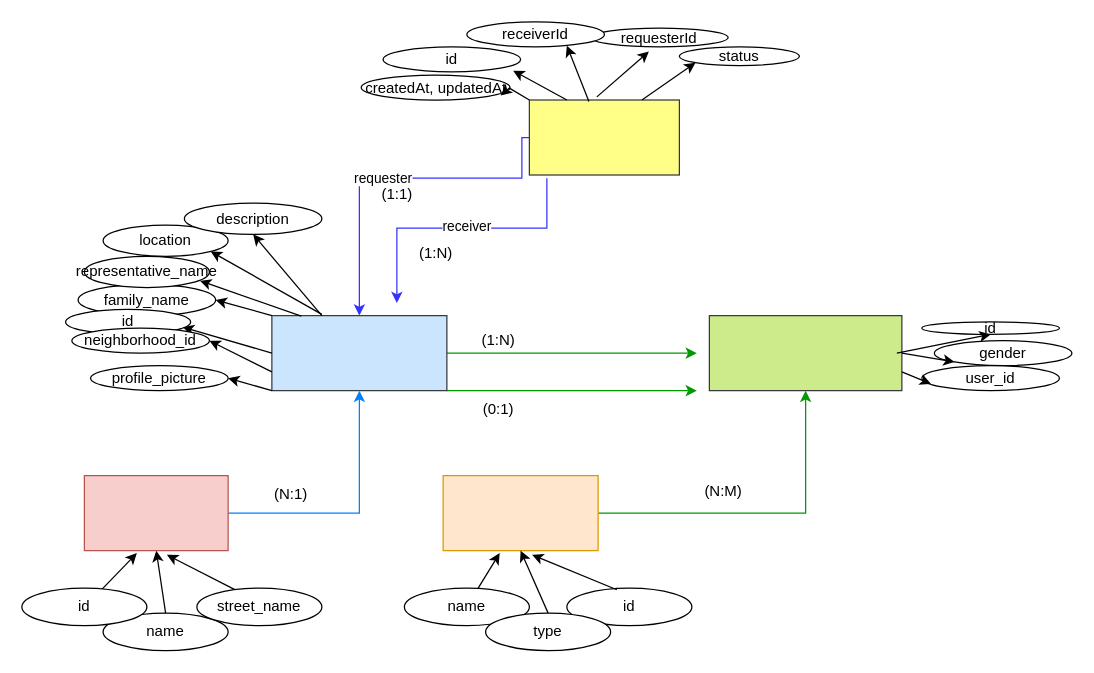
The diagram is 1094 pixels wide and 673 high, and some of its shapes have lost their labels. Each missing label, with the box of its shape:
Child: (708, 314, 902, 391)
Interest: (442, 474, 598, 551)
Match: (528, 99, 679, 175)
neighborhood: (83, 474, 228, 551)
User: (271, 314, 447, 391)
